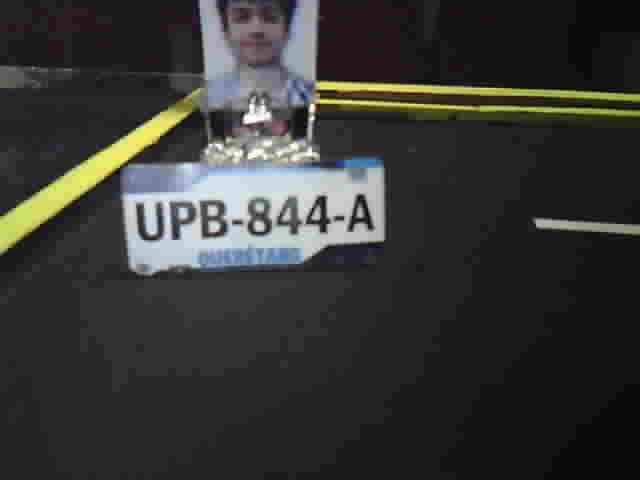PLACA: (118, 154, 390, 281)
ROSTRO: (206, 1, 315, 104)
